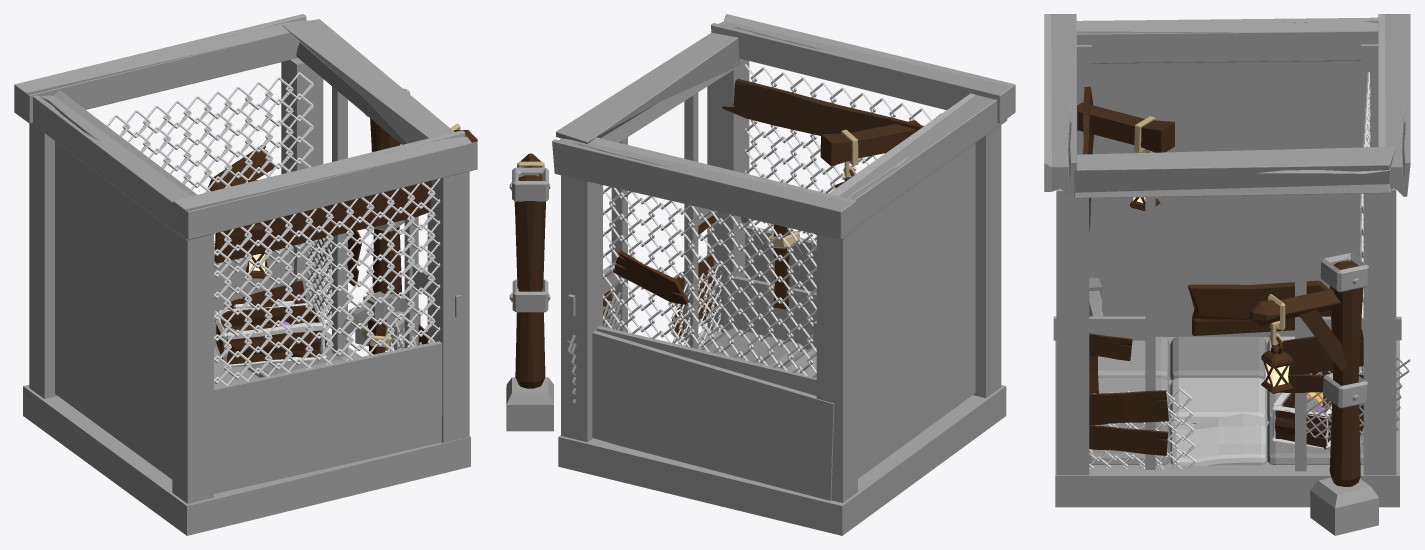
File: elevator.fbx
The picture shows the model from 3 angles, left to right: view 1: azimuth 30°, elevation 25°; view 2: azimuth 150°, elevation 25°; view 3: azimuth 270°, elevation 25°; orthographic projection. The views are drawn at different scales.
Parts seen in each view (by area): view 1: Cube.456, Cube.425, Cube.471, Cube.465, Cube.424, Cube.423, Cube.466, Cube.468, Cube.422, Cube.421, Cube.467, Cube.461 (+17 smaller); view 2: Cube.456, Cube.426, Cube.471, Cube.423, Cube.461, Cube.424, Cube.469, Cube.467, Cube.421, Cube.422, Cube.466, Cube.468 (+17 smaller); view 3: Cube.456, Cube.421, Cube.422, Cube.471, Cube.468, Cube.469, Cube.424, Cube.423, Cube.418, Cube.419, Cube.431, Cube.437 (+27 smaller).
Part boxes in pixels (box(x1,y1,x2,y2)): Cube.456: box(55, 141, 172, 479); Cube.425: box(214, 341, 442, 493); Cube.471: box(23, 331, 470, 535); Cube.465: box(214, 178, 440, 386); Cube.424: box(173, 130, 477, 239); Cube.423: box(14, 14, 307, 123); Cube.466: box(172, 230, 213, 503); Cube.468: box(427, 171, 469, 443); Cube.422: box(32, 90, 211, 240); Cube.421: box(282, 19, 453, 144); Cube.467: box(29, 123, 57, 398); Cube.461: box(106, 72, 313, 268); Cube.456: box(858, 143, 975, 478); Cube.426: box(592, 330, 834, 500); Cube.471: box(558, 329, 1006, 535); Cube.423: box(552, 137, 856, 239); Cube.461: box(603, 186, 816, 377); Cube.424: box(711, 14, 1015, 123); Cube.469: box(561, 175, 602, 442); Cube.467: box(816, 226, 857, 502); Cube.421: box(556, 32, 740, 143); Cube.422: box(828, 93, 1007, 226); Cube.466: box(973, 125, 1001, 397); Cube.468: box(707, 58, 749, 332); Cube.456: box(1092, 61, 1360, 336); Cube.421: box(1074, 146, 1395, 198); Cube.422: box(1076, 17, 1378, 63); Cube.471: box(1055, 337, 1399, 507); Cube.468: box(1056, 188, 1089, 475); Cube.469: box(1363, 188, 1396, 475); Cube.424: box(1044, 14, 1077, 196); Cube.423: box(1378, 14, 1410, 196); Cube.418: box(1329, 261, 1363, 486); Cube.419: box(1188, 280, 1330, 335); Cube.431: box(1169, 414, 1267, 465); Cube.437: box(1170, 336, 1267, 380).
Size of the model in its own units: 138 by 111 by 106.
